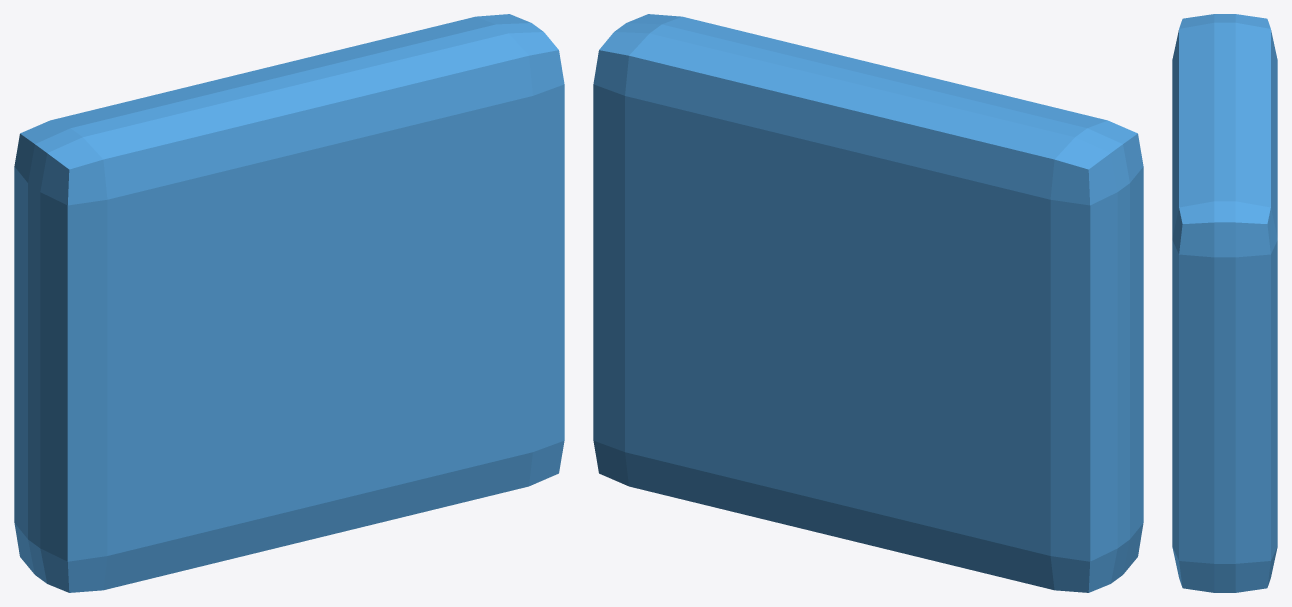
File: chest__chest_core__hero_v.glb
3 renders of one model, left to right at view 1: azimuth 30°, elevation 25°; view 2: azimuth 150°, elevation 25°; view 3: azimuth 270°, elevation 25°, orthographic. The views are drawn at different scales.
Visible parts, largest first — view 1: armor_topping_chest_chest_core_hero_v_v001_v001; view 2: armor_topping_chest_chest_core_hero_v_v001_v001; view 3: armor_topping_chest_chest_core_hero_v_v001_v001.
Boxes of the visible parts, x1,y1,x2,y2 form: armor_topping_chest_chest_core_hero_v_v001_v001: (14,14,564,592); armor_topping_chest_chest_core_hero_v_v001_v001: (593,14,1143,592); armor_topping_chest_chest_core_hero_v_v001_v001: (1172,14,1277,592).
Bounding box in the file's own units: 0.12 × 0.1 × 0.025.
